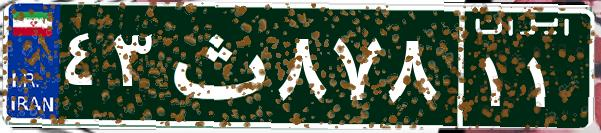1: (475, 38, 525, 113), (525, 38, 570, 115)
3: (110, 28, 158, 105)
4: (57, 26, 110, 107)
7: (330, 28, 385, 110)
8: (385, 28, 445, 110), (273, 28, 330, 110)
ث: (158, 15, 273, 115)
